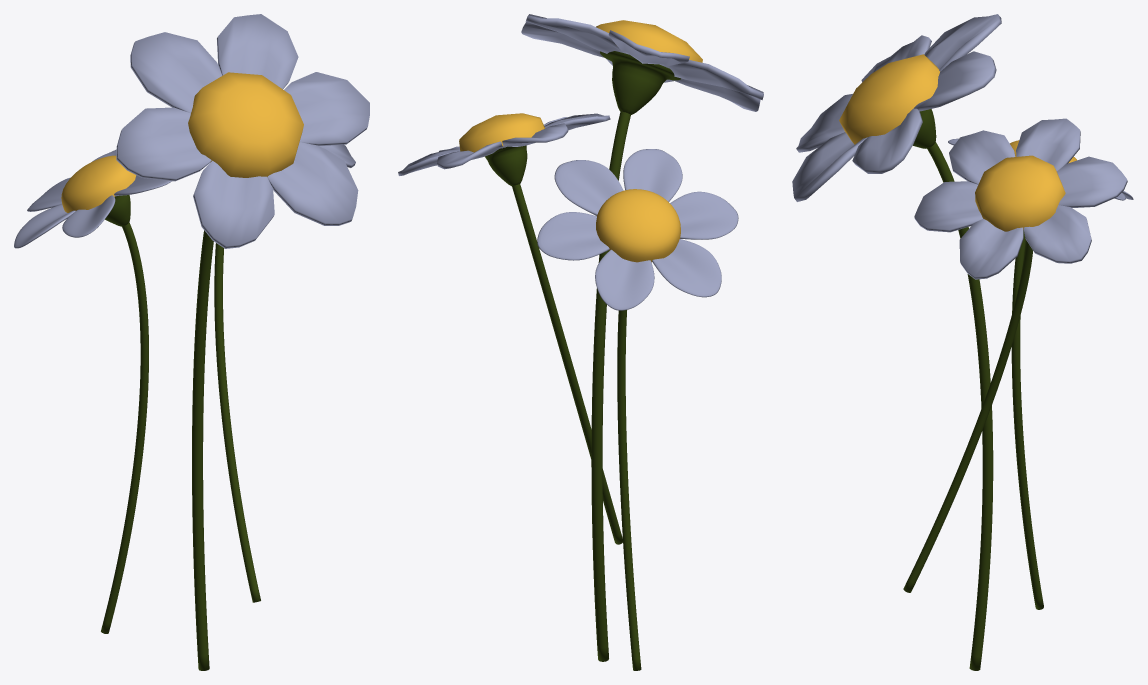
File: Flowers.fbx
3 views of the same model, side by side, from view 1: azimuth 30°, elevation 25°; view 2: azimuth 150°, elevation 25°; view 3: azimuth 270°, elevation 25° (orthographic).
Visible parts, largest first — view 1: Petals, Center, Stem, Stem.001, Petals.004, Stem.002, Center.001, Bud.001; view 2: Petals.004, Petals, Stem, Center.001, Stem.001, Stem.002, Petals.011, Bud, Center.002, Center, Bud.002; view 3: Petals.011, Petals, Center.002, Center, Stem, Stem.002, Stem.001, Bud.
Part boxes in pixels (x1,y1,x2,y2): Petals: [116, 14, 369, 248]; Center: [188, 72, 303, 177]; Stem: [192, 230, 213, 670]; Stem.001: [101, 222, 148, 633]; Petals.004: [14, 149, 171, 248]; Stem.002: [214, 243, 260, 602]; Center.001: [61, 155, 136, 212]; Bud.001: [105, 195, 130, 226]; Petals.004: [537, 149, 738, 310]; Petals: [521, 14, 763, 111]; Stem: [591, 111, 630, 661]; Center.001: [596, 189, 680, 262]; Stem.001: [617, 310, 641, 670]; Stem.002: [512, 184, 622, 544]; Petals.011: [398, 113, 610, 175]; Bud: [600, 51, 680, 114]; Center.002: [459, 113, 544, 152]; Center: [596, 20, 702, 62]; Bud.002: [485, 145, 527, 186]; Petals.011: [914, 118, 1127, 279]; Petals: [792, 14, 1001, 201]; Center.002: [975, 155, 1065, 231]; Center: [839, 54, 939, 144]; Stem: [927, 142, 993, 670]; Stem.002: [903, 239, 1032, 592]; Stem.001: [1011, 230, 1043, 609]; Bud: [913, 109, 936, 148].
Size of the model in its own units: 185 by 371 by 182.
